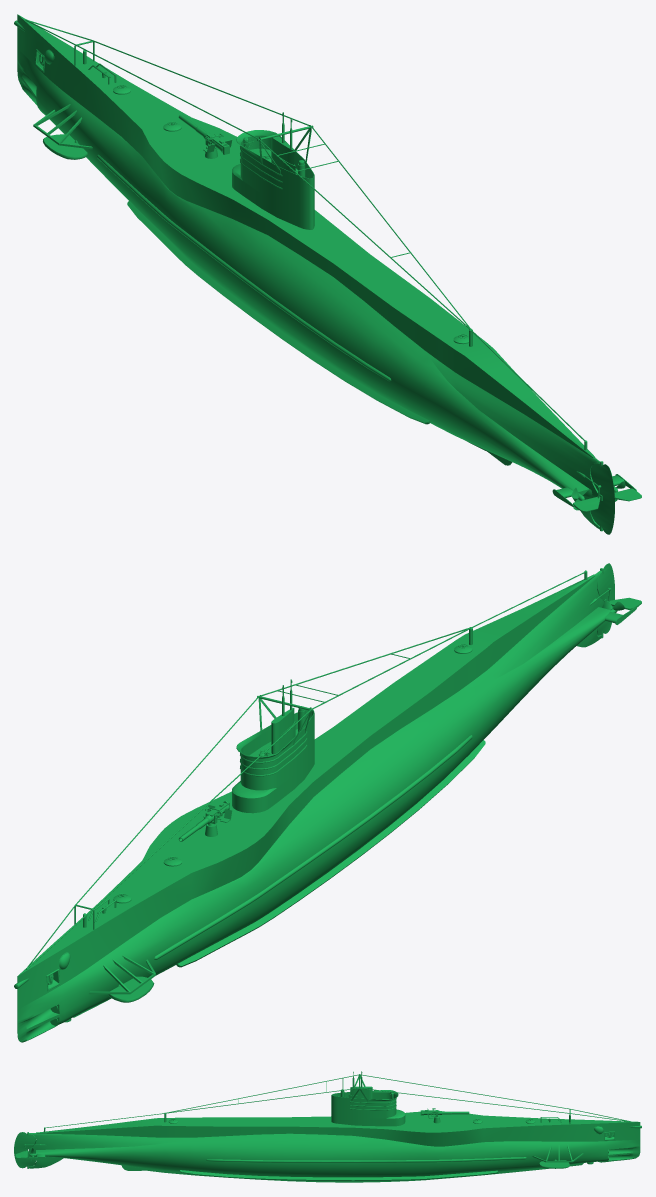
The model's file is S-class.FBX.
The picture shows the model from 3 angles, top to bottom: view 1: azimuth 30°, elevation 25°; view 2: azimuth 150°, elevation 25°; view 3: azimuth 270°, elevation 25°; orthographic projection. The views are drawn at different scales.
Visible parts, largest first — view 1: okret_LP; view 2: okret_LP; view 3: okret_LP.
Part boxes in pixels (x1,y1,x2,y2): okret_LP: [14, 14, 641, 534]; okret_LP: [14, 563, 641, 1042]; okret_LP: [14, 1071, 641, 1182].
Bounding box in the file's own units: 6.74 × 13.61 × 69.8.
